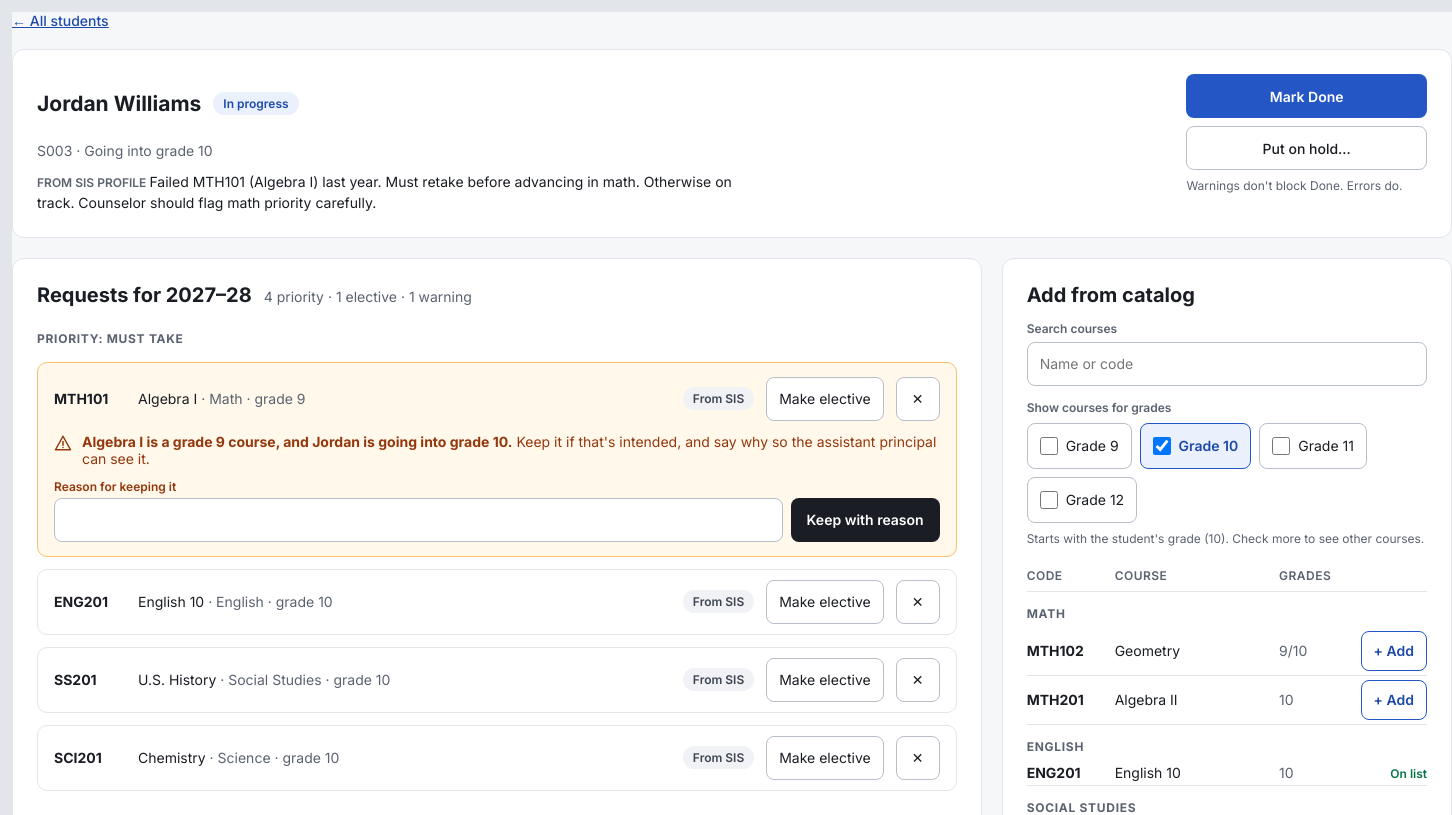
Test case: Keep with reason saves the reason on that request and re-renders from the response
The width and height of the screenshot is (1452, 815).
Type "  Retake: failed Algebra I last year " into the field labelled "Reason for keeping it".
click(418, 520); type("  Retake: failed Algebra I last year ")  # box [54,498,783,542]
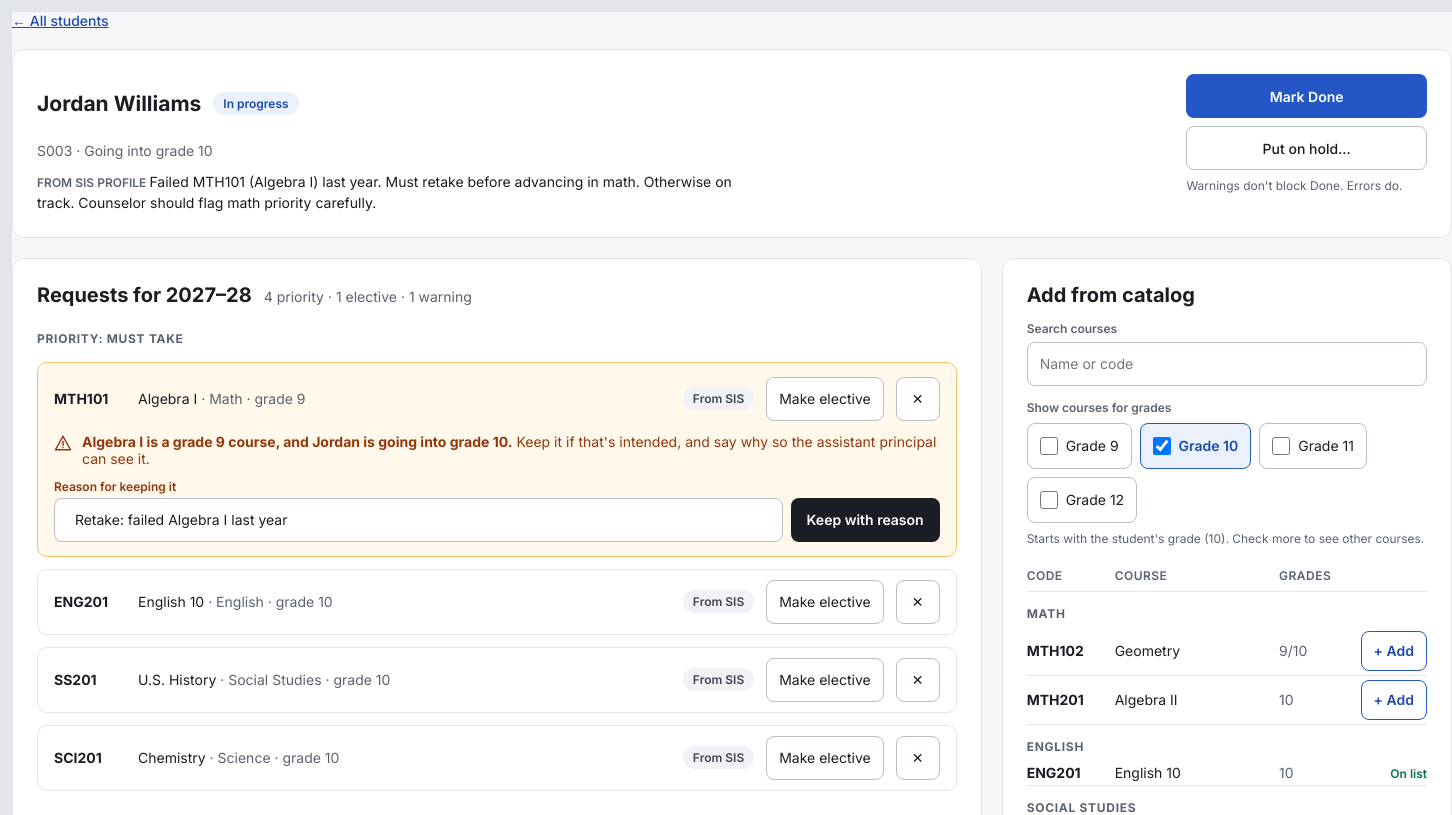
Click the button "Keep with reason".
click(865, 520)  # box [791,498,940,542]
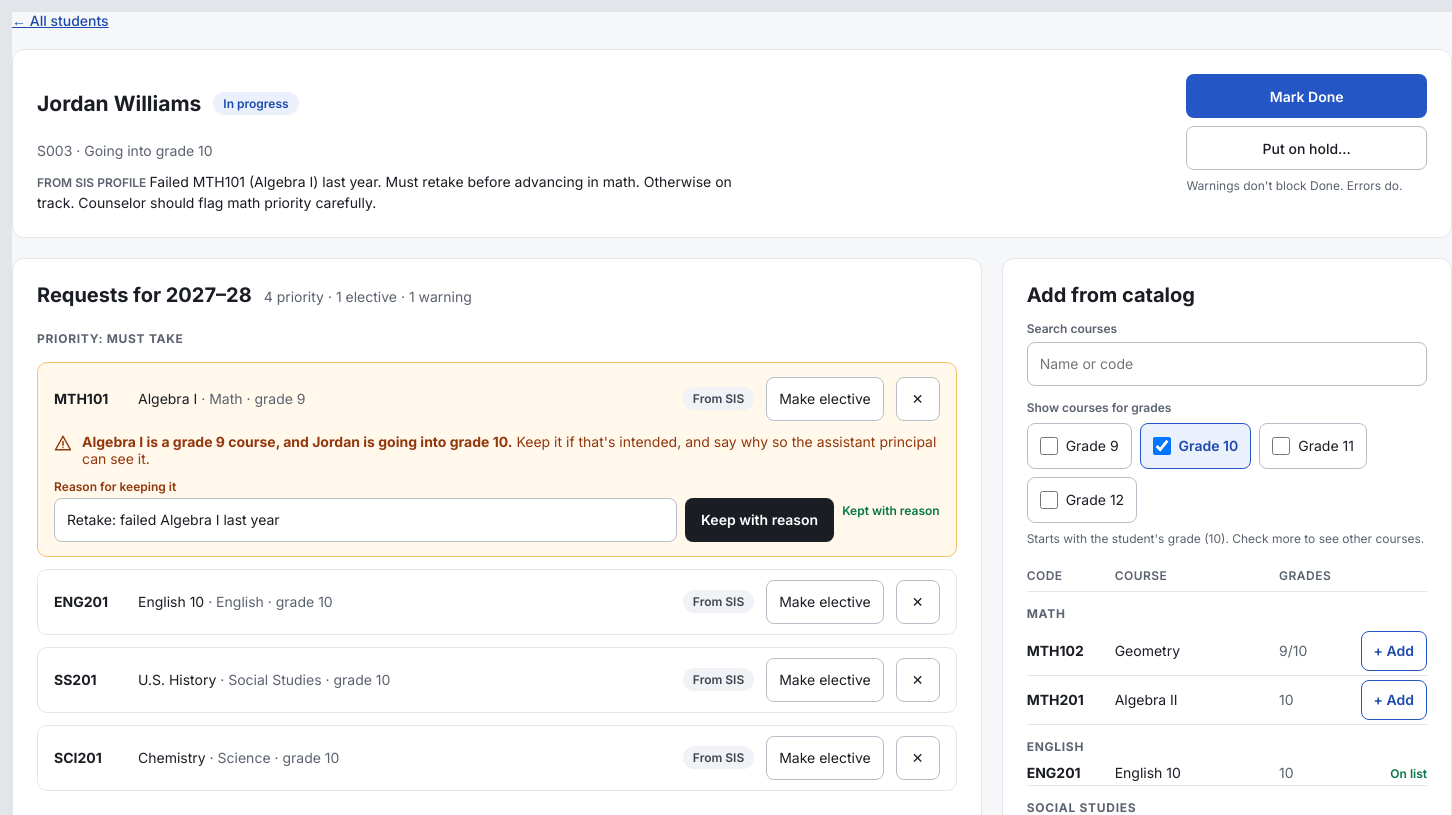
Check: the field labelled "Reason for keeping it" holds "Retake: failed Algebra I last year", box [54,498,677,542]
Check: the list item with test id "request-MTH101" shows "Kept with reason", box [842,503,940,518]
